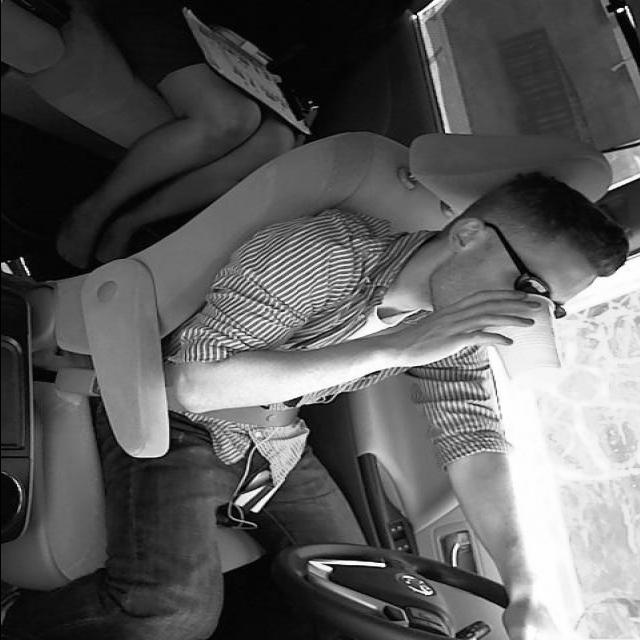drinking: (482, 290, 565, 396)
